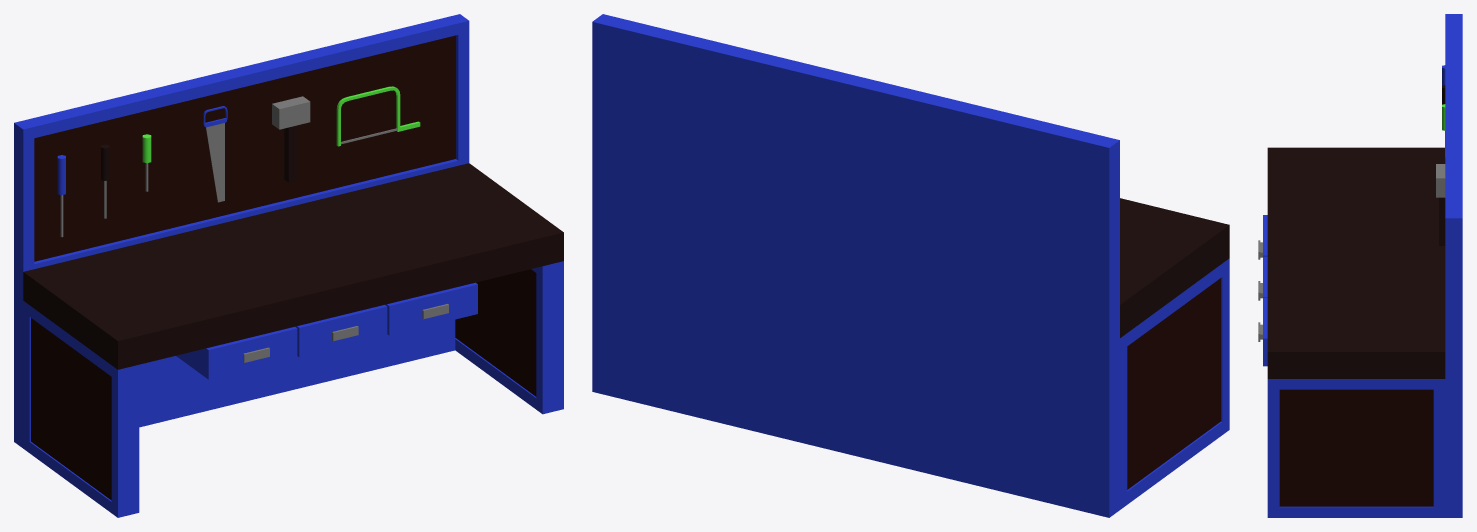
The model's file is Work_BenchUnmerged.fbx.
The picture shows the model from 3 angles, left to right: view 1: azimuth 30°, elevation 25°; view 2: azimuth 150°, elevation 25°; view 3: azimuth 270°, elevation 25°; orthographic projection. The views are drawn at different scales.
Parts seen in each view (by area): view 1: Work_Bench, Mallet, Hand_Saw, Hack_Saw; view 2: Work_Bench; view 3: Work_Bench, Mallet.
Part boxes in pixels (x1,y1,x2,y2): Work_Bench: (14, 14, 563, 517); Mallet: (272, 96, 310, 182); Hand_Saw: (203, 106, 227, 202); Hack_Saw: (336, 86, 420, 146); Work_Bench: (592, 14, 1229, 517); Work_Bench: (1263, 14, 1462, 517); Mallet: (1436, 164, 1445, 245).
Bounding box in the file's own units: 110 × 75.37 × 46.62.
